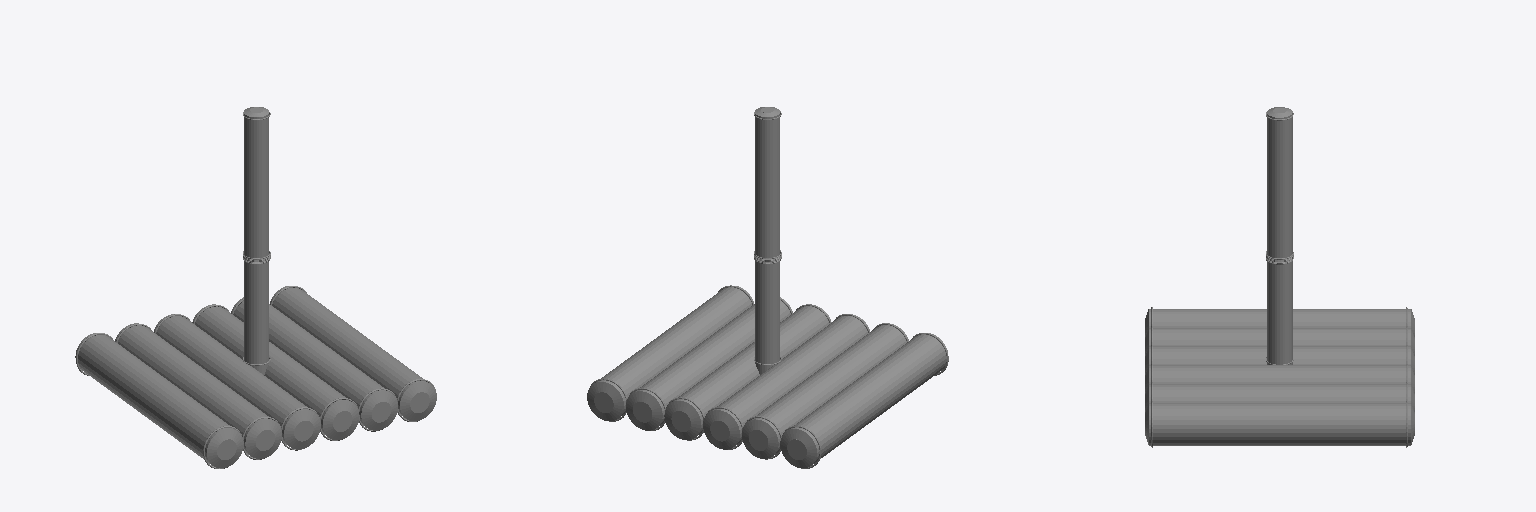
File: Log_Raft.obj
3 renders of one model, left to right at view 1: azimuth 30°, elevation 25°; view 2: azimuth 150°, elevation 25°; view 3: azimuth 270°, elevation 25°, orthographic.
Parts seen in each view (by area): view 1: Log_Basic_OneMesh, Log_Basic_OneMesh004, Log_Basic_OneMesh002, Log_Basic_OneMesh001, Log_Basic_OneMesh005, Log_Basic_OneMesh003, Log_Basic_OneMesh007, Log_Basic_OneMesh006; view 2: Log_Basic_OneMesh, Log_Basic_OneMesh004, Log_Basic_OneMesh002, Log_Basic_OneMesh001, Log_Basic_OneMesh005, Log_Basic_OneMesh003, Log_Basic_OneMesh007, Log_Basic_OneMesh006; view 3: Log_Basic_OneMesh004, Log_Basic_OneMesh005, Log_Basic_OneMesh003, Log_Basic_OneMesh, Log_Basic_OneMesh002, Log_Basic_OneMesh001, Log_Basic_OneMesh007, Log_Basic_OneMesh006.
Part boxes in pixels (bbox=[...]): Log_Basic_OneMesh: bbox=[75, 333, 243, 467]; Log_Basic_OneMesh004: bbox=[270, 286, 436, 420]; Log_Basic_OneMesh002: bbox=[154, 314, 320, 449]; Log_Basic_OneMesh001: bbox=[115, 323, 281, 458]; Log_Basic_OneMesh005: bbox=[231, 297, 397, 430]; Log_Basic_OneMesh003: bbox=[192, 304, 359, 439]; Log_Basic_OneMesh007: bbox=[244, 107, 268, 259]; Log_Basic_OneMesh006: bbox=[244, 260, 268, 374]; Log_Basic_OneMesh: bbox=[780, 333, 947, 467]; Log_Basic_OneMesh004: bbox=[587, 286, 753, 420]; Log_Basic_OneMesh002: bbox=[703, 314, 869, 449]; Log_Basic_OneMesh001: bbox=[742, 323, 908, 458]; Log_Basic_OneMesh005: bbox=[626, 297, 792, 430]; Log_Basic_OneMesh003: bbox=[664, 304, 831, 439]; Log_Basic_OneMesh007: bbox=[755, 107, 779, 258]; Log_Basic_OneMesh006: bbox=[755, 259, 779, 374]; Log_Basic_OneMesh004: bbox=[1145, 403, 1414, 445]; Log_Basic_OneMesh005: bbox=[1145, 384, 1414, 411]; Log_Basic_OneMesh003: bbox=[1145, 365, 1414, 392]; Log_Basic_OneMesh: bbox=[1145, 309, 1414, 336]; Log_Basic_OneMesh002: bbox=[1145, 346, 1414, 374]; Log_Basic_OneMesh001: bbox=[1145, 328, 1414, 355]; Log_Basic_OneMesh007: bbox=[1267, 107, 1292, 259]; Log_Basic_OneMesh006: bbox=[1267, 260, 1292, 364].
Bounding box in the file's own units: 820 × 978 × 820.